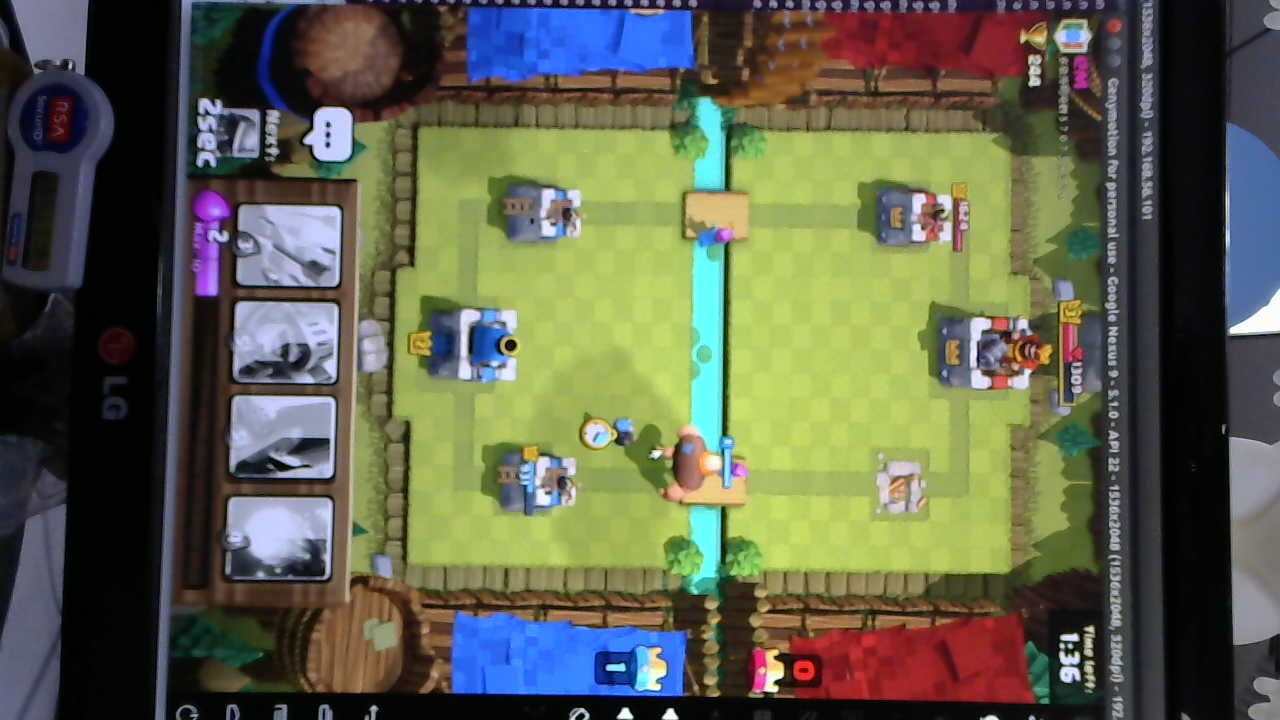bomb: (576, 413, 640, 450)
